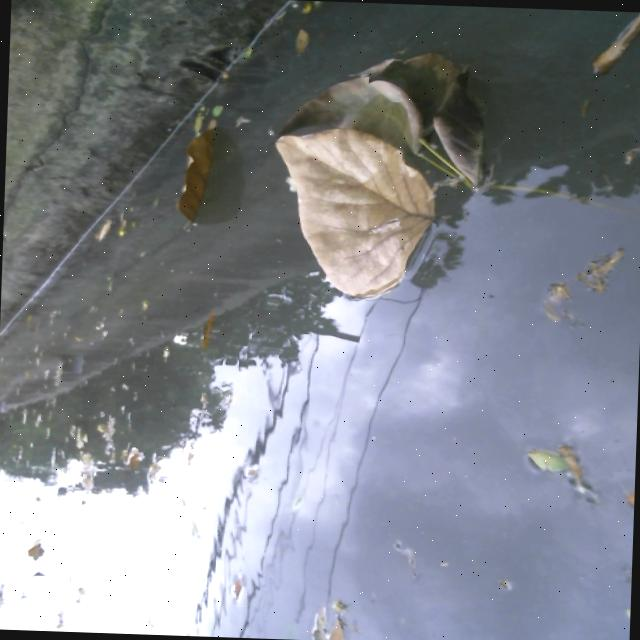Big-leaf: (263, 47, 501, 304), (157, 122, 223, 224)
Small-leaf: (469, 441, 605, 495), (542, 239, 630, 322), (280, 0, 324, 64), (111, 435, 149, 483), (187, 307, 229, 346), (90, 209, 132, 244), (232, 31, 263, 72), (196, 99, 226, 127)
